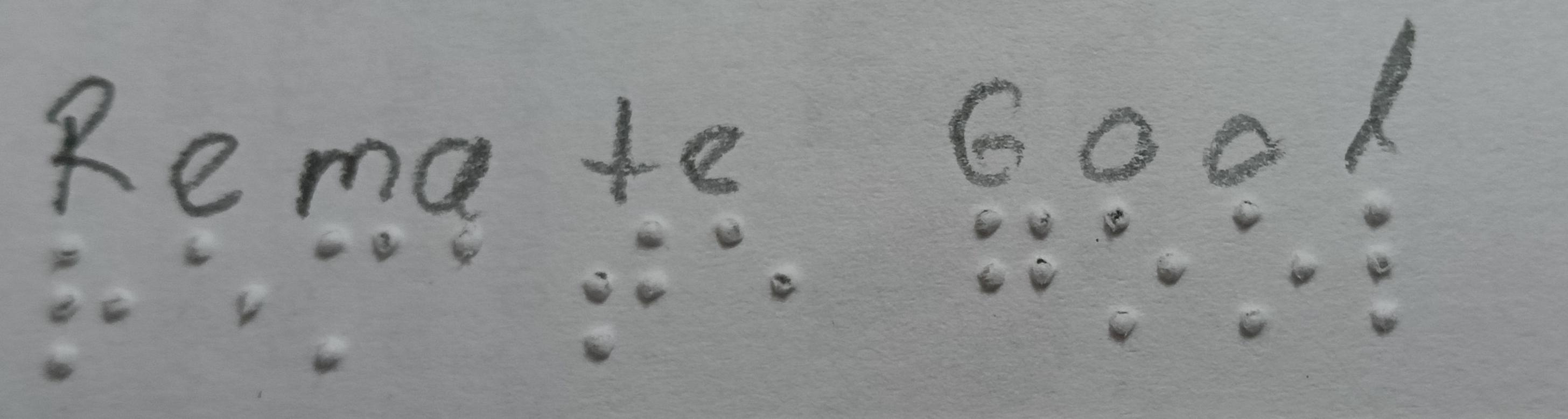a: (422, 222, 512, 289)
e: (160, 222, 273, 342), (696, 203, 817, 303)
g: (948, 197, 1075, 301)
l: (1343, 188, 1434, 341)
m: (289, 224, 415, 377)
o: (1197, 190, 1321, 353), (1084, 199, 1190, 351)
r: (32, 231, 135, 389)
t: (565, 215, 684, 377)
